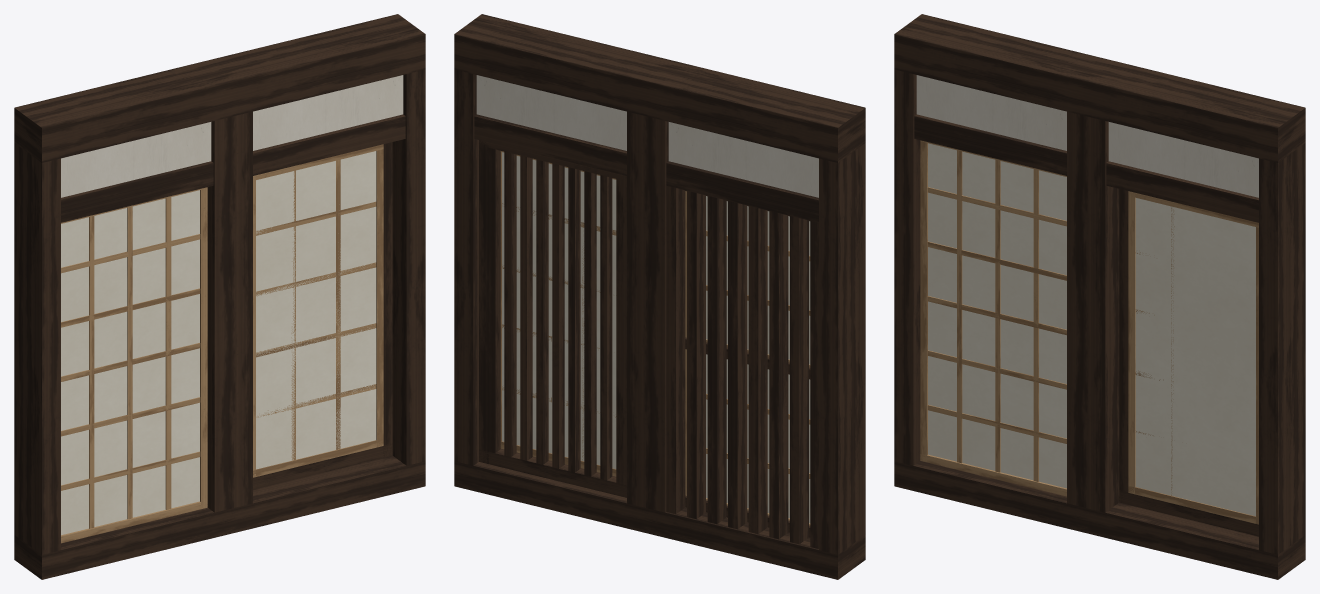
The model's file is HO_Wall_Front_Koshi_8.fbx.
The picture shows the model from 3 angles, left to right: view 1: azimuth 30°, elevation 25°; view 2: azimuth 150°, elevation 25°; view 3: azimuth 330°, elevation 25°; orthographic projection.
Parts seen in each view (by area): view 1: HO_Wall_Front_Koshi_8__Timber_Dark, HO_Wall_Front_Koshi_8__Shoji_Paper, HO_Wall_Front_Koshi_8_Door__Shoji_Paper, HO_Wall_Front_Koshi_8__Timber_Light, HO_Wall_Front_Koshi_8__Plaster_White, HO_Wall_Front_Koshi_8_Door__Timber_Light, HO_Wall_Front_Koshi_8_Door__Timber_Dark; view 2: HO_Wall_Front_Koshi_8__Timber_Dark, HO_Wall_Front_Koshi_8_Door__Timber_Dark, HO_Wall_Front_Koshi_8__Plaster_White, HO_Wall_Front_Koshi_8_Door__Shoji_Paper, HO_Wall_Front_Koshi_8__Shoji_Paper, HO_Wall_Front_Koshi_8_Door__Timber_Light, HO_Wall_Front_Koshi_8__Timber_Light; view 3: HO_Wall_Front_Koshi_8__Timber_Dark, HO_Wall_Front_Koshi_8__Shoji_Paper, HO_Wall_Front_Koshi_8_Door__Shoji_Paper, HO_Wall_Front_Koshi_8__Timber_Light, HO_Wall_Front_Koshi_8__Plaster_White, HO_Wall_Front_Koshi_8_Door__Timber_Light, HO_Wall_Front_Koshi_8_Door__Timber_Dark.
Part boxes in pixels (x1=…): HO_Wall_Front_Koshi_8__Timber_Dark: x1=14, y1=14, x2=425, y2=579; HO_Wall_Front_Koshi_8__Shoji_Paper: x1=61, y1=190, x2=199, y2=535; HO_Wall_Front_Koshi_8_Door__Shoji_Paper: x1=256, y1=151, x2=376, y2=469; HO_Wall_Front_Koshi_8__Timber_Light: x1=61, y1=187, x2=207, y2=543; HO_Wall_Front_Koshi_8__Plaster_White: x1=61, y1=75, x2=403, y2=197; HO_Wall_Front_Koshi_8_Door__Timber_Light: x1=253, y1=144, x2=383, y2=477; HO_Wall_Front_Koshi_8_Door__Timber_Dark: x1=253, y1=142, x2=392, y2=489; HO_Wall_Front_Koshi_8__Timber_Dark: x1=454, y1=14, x2=865, y2=579; HO_Wall_Front_Koshi_8_Door__Timber_Dark: x1=479, y1=140, x2=626, y2=497; HO_Wall_Front_Koshi_8__Plaster_White: x1=476, y1=75, x2=818, y2=197; HO_Wall_Front_Koshi_8_Door__Shoji_Paper: x1=502, y1=152, x2=616, y2=468; HO_Wall_Front_Koshi_8__Shoji_Paper: x1=706, y1=196, x2=810, y2=523; HO_Wall_Front_Koshi_8_Door__Timber_Light: x1=500, y1=151, x2=616, y2=476; HO_Wall_Front_Koshi_8__Timber_Light: x1=685, y1=191, x2=810, y2=525; HO_Wall_Front_Koshi_8__Timber_Dark: x1=894, y1=14, x2=1305, y2=579; HO_Wall_Front_Koshi_8__Shoji_Paper: x1=928, y1=143, x2=1066, y2=488; HO_Wall_Front_Koshi_8_Door__Shoji_Paper: x1=1135, y1=198, x2=1255, y2=516; HO_Wall_Front_Koshi_8__Timber_Light: x1=920, y1=140, x2=1066, y2=496; HO_Wall_Front_Koshi_8__Plaster_White: x1=916, y1=75, x2=1258, y2=197; HO_Wall_Front_Koshi_8_Door__Timber_Light: x1=1128, y1=191, x2=1258, y2=524; HO_Wall_Front_Koshi_8_Door__Timber_Dark: x1=1119, y1=189, x2=1258, y2=536.
Bounding box in the file's own units: 8 × 9 × 1.
